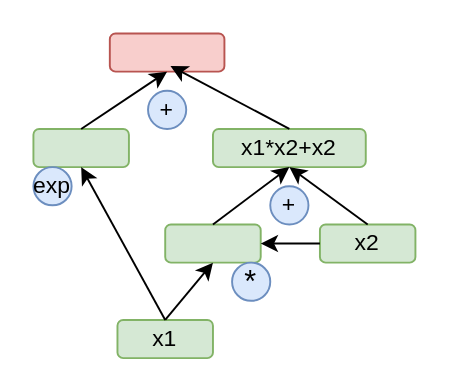
This 449x392 diagram has some shape labels left out. Each missing label, with the box of its shape:
e^x1: (32, 127, 129, 167)
f(x): (108, 32, 224, 72)
x1*x2: (163, 223, 261, 263)
